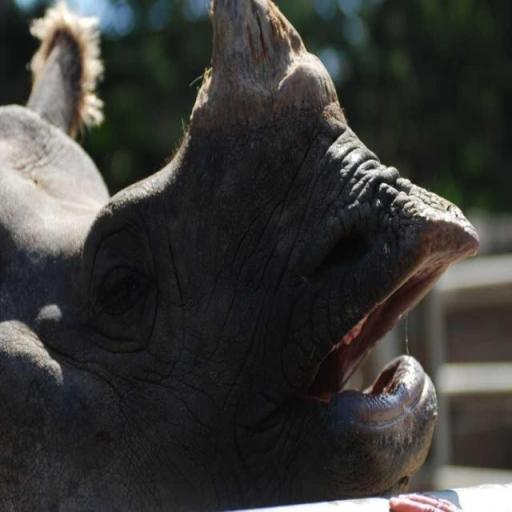Elephant: (0, 0, 479, 510)
